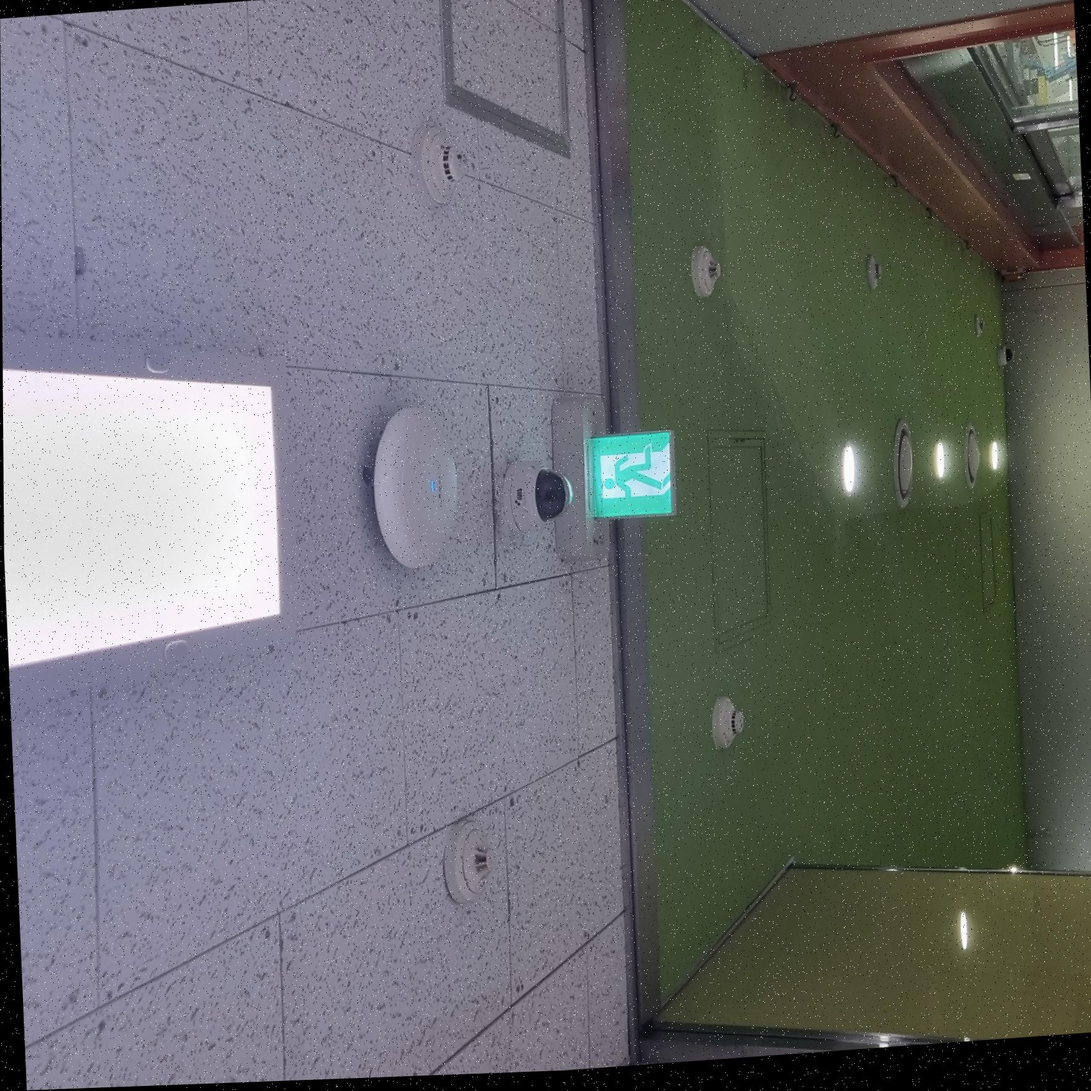emergency_exit: (585, 428, 676, 519)
